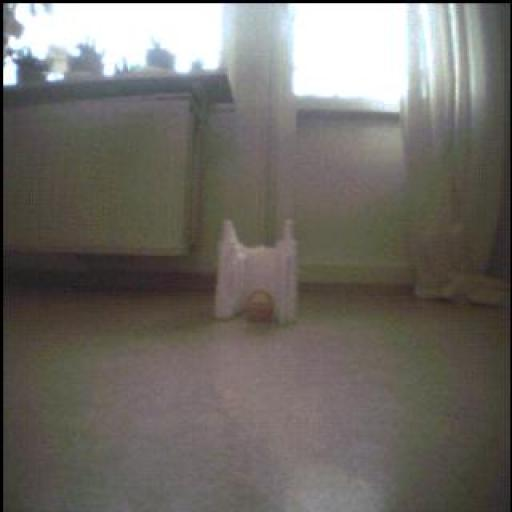Basket: (245, 288, 278, 324)
